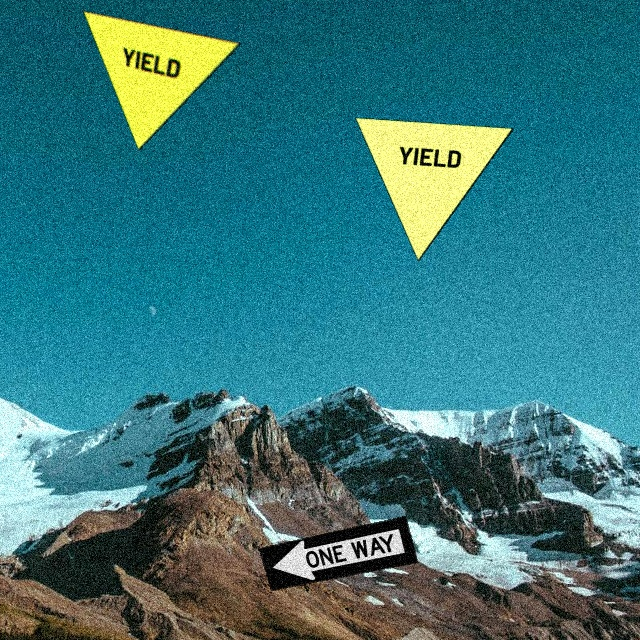ONE_WAY_ left: (258, 515, 418, 591)
YIELD: (354, 117, 514, 262), (82, 10, 242, 151)
